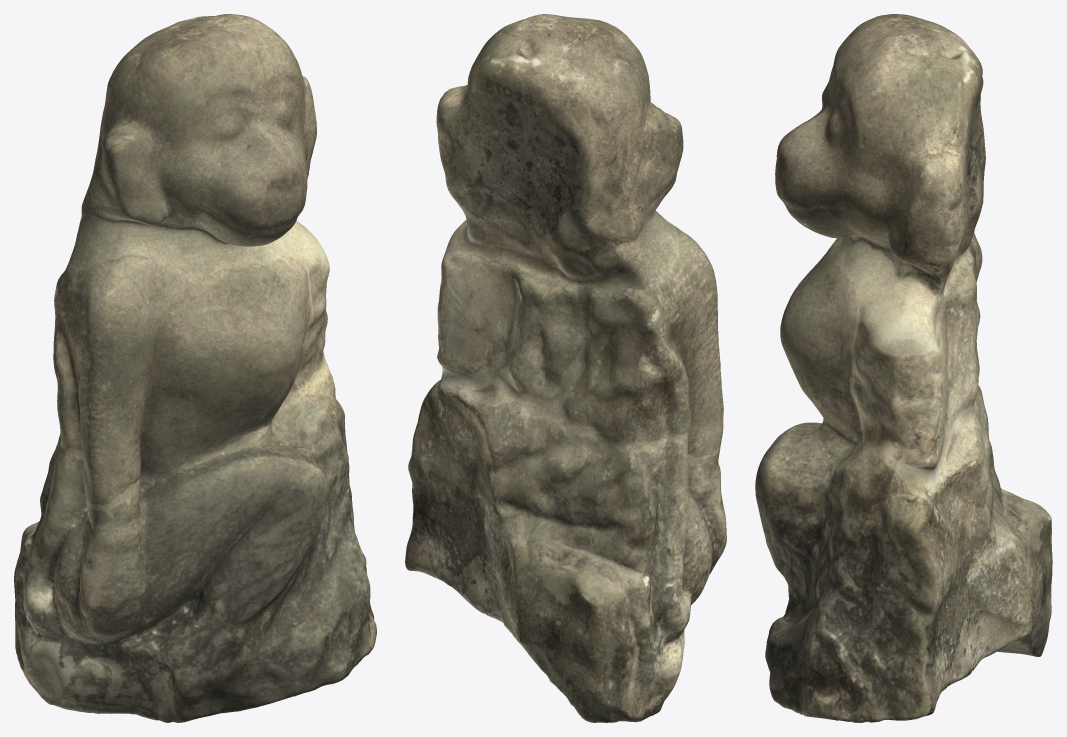
File: 23_khi_final.glb
3 renders of one model, left to right at view 1: azimuth 30°, elevation 25°; view 2: azimuth 150°, elevation 25°; view 3: azimuth 270°, elevation 25°, orthographic. The views are drawn at different scales.
Size of the model in its own units: 0.2413 by 0.4995 by 0.1977.
1 material, 1 textured.
